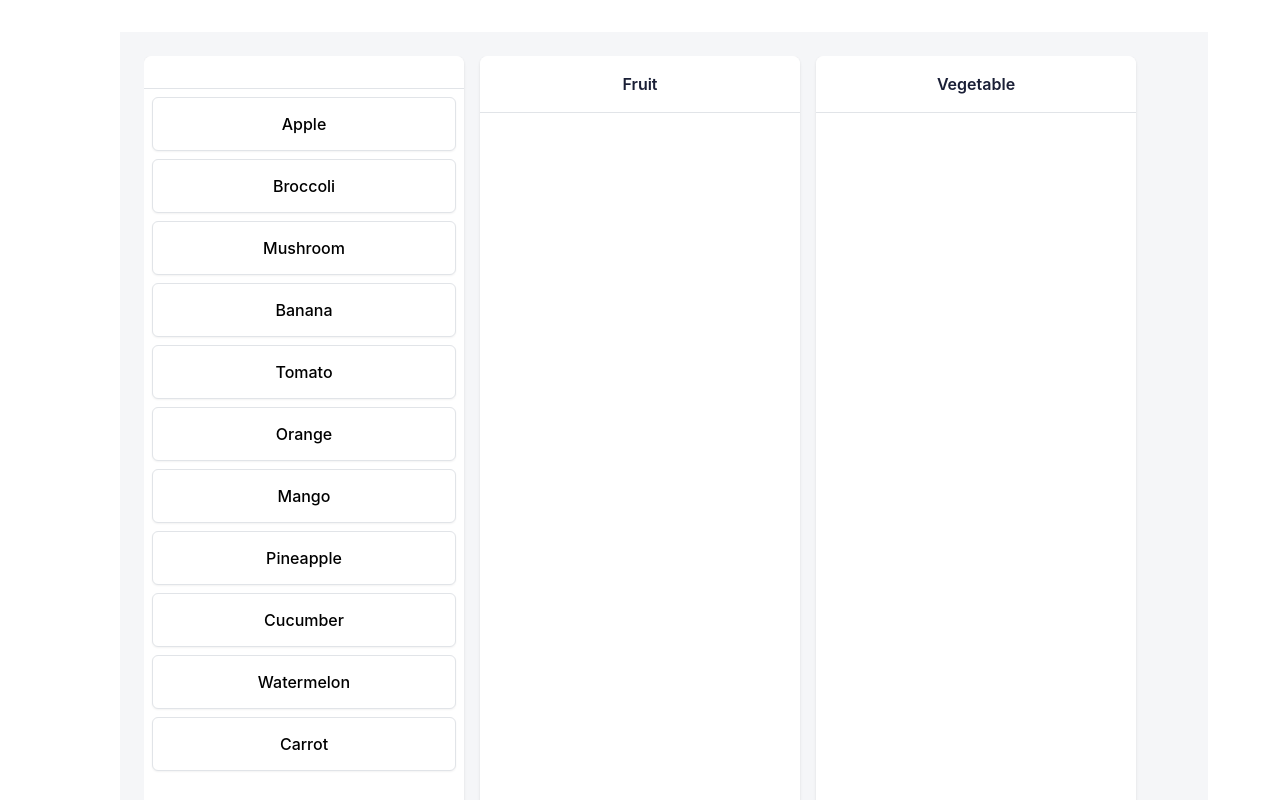
it: App › moves item to correct column when clicked
Click the button "Apple" at (304, 124), box [152,97,456,151]
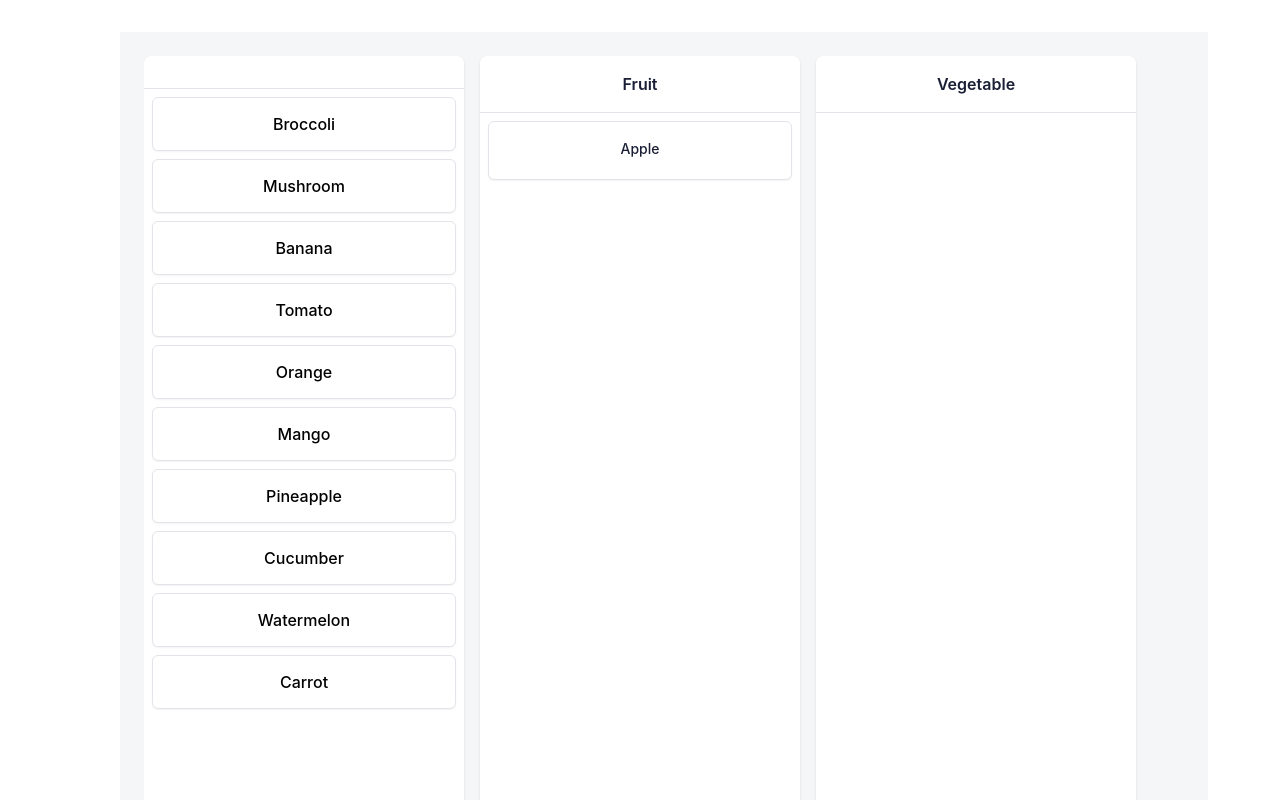
Click the button "Broccoli" at (304, 124), box [152,97,456,151]
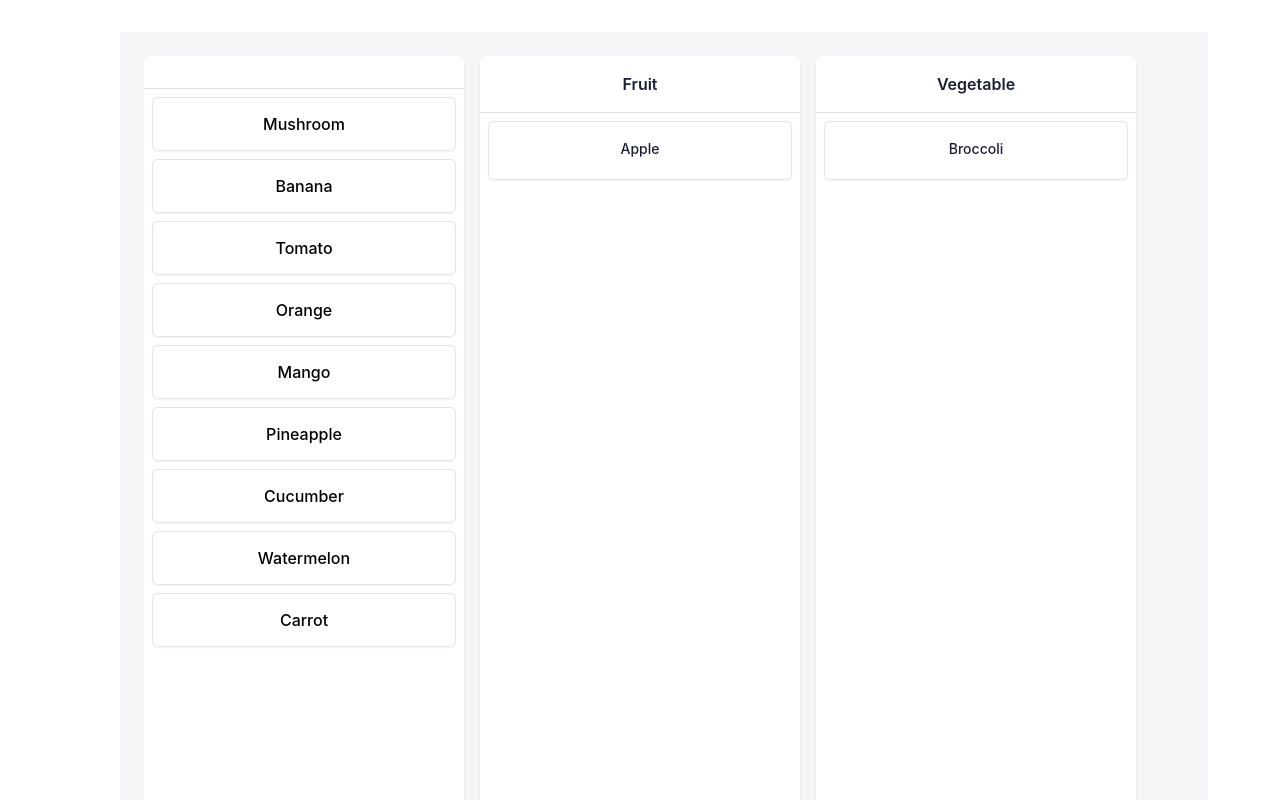
Expected: the number of buttons is 9
